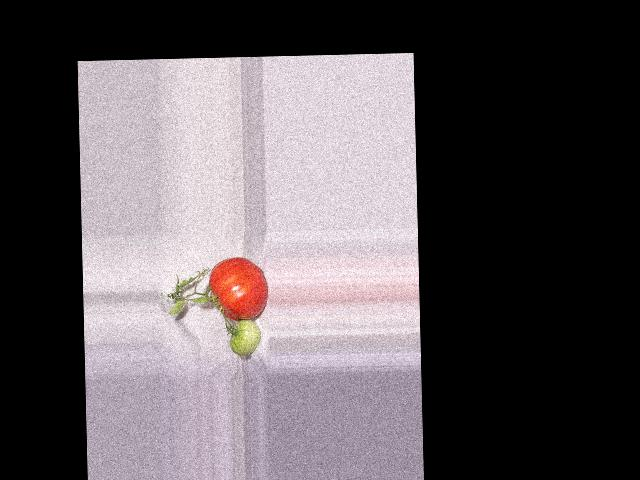tomato: (208, 256, 268, 321)
